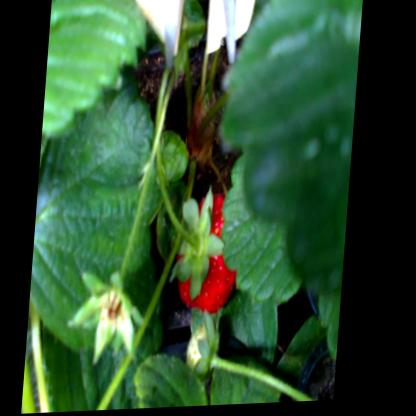ripe: (179, 197, 252, 322)
unripe: (189, 330, 227, 378)
